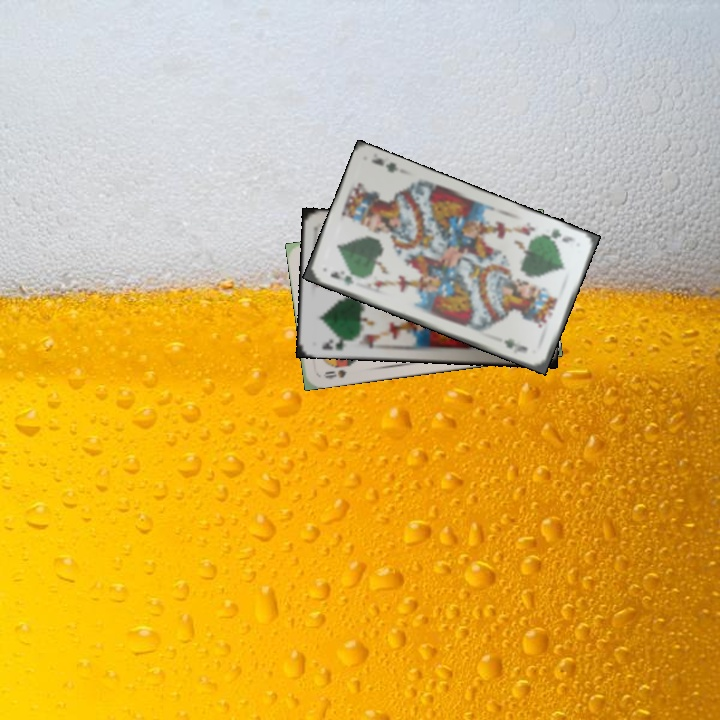GK: (539, 225, 578, 245), (326, 267, 356, 289), (318, 335, 353, 353)
SO: (319, 366, 349, 381)
